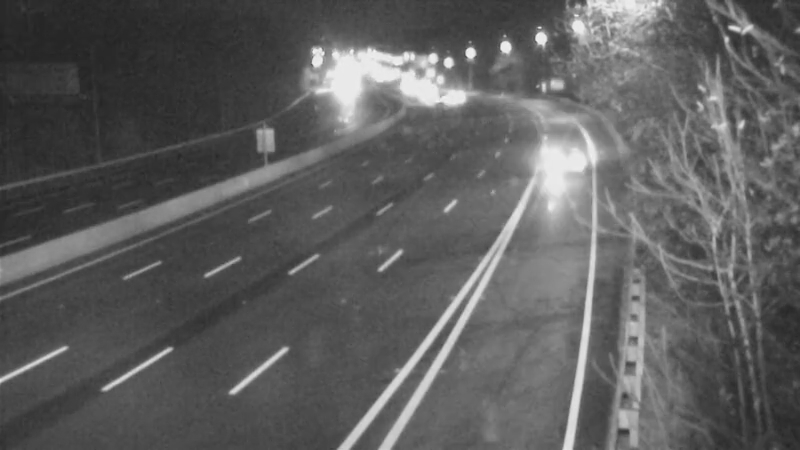vehicle: (520, 121, 600, 201), (436, 72, 486, 122), (404, 76, 454, 126)
